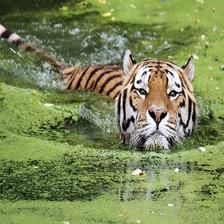tiger: (10, 32, 207, 161)
